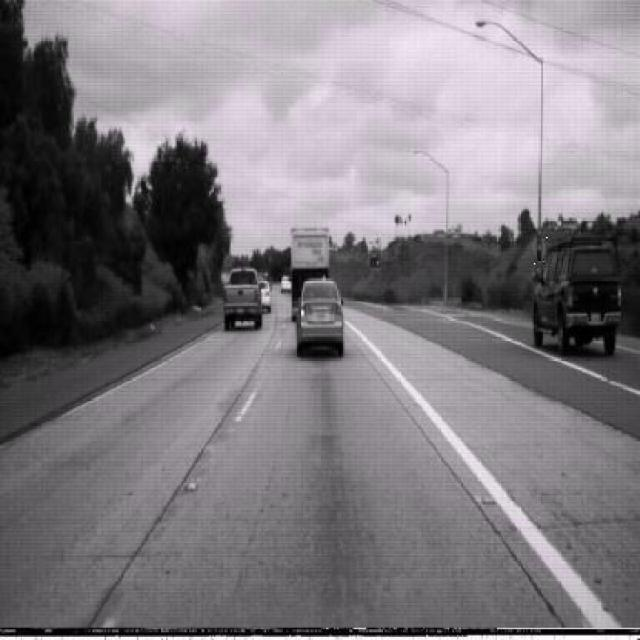signalAhead: (529, 226, 550, 269)
